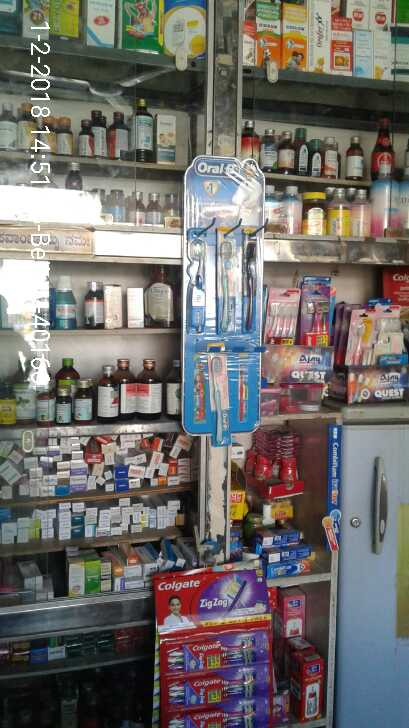oralb: (182, 233, 213, 336), (234, 231, 263, 329), (209, 356, 236, 446), (220, 232, 234, 331)
